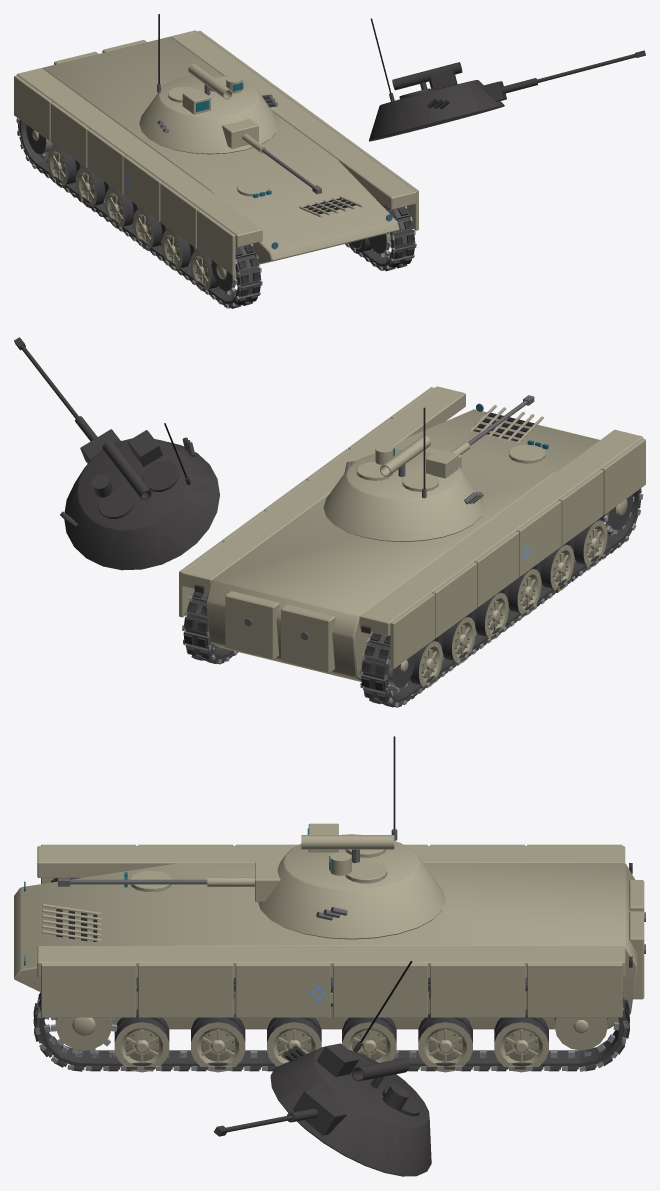
File: ifv__bmp_2.glb
3 views of the same model, one above another, from view 1: azimuth 30°, elevation 25°; view 2: azimuth 150°, elevation 25°; view 3: azimuth 270°, elevation 25° (orthographic). The views are drawn at different scales.
Visible parts, largest first — view 1: Hull_Mesh, Wreck, Turret_Mesh, Track_L_Mesh, Track_R_Mesh, Gun_Mesh, Wheel_L0_Mesh, Wheel_L1_Mesh, Wheel_L4_Mesh, Wheel_L3_Mesh, Wheel_L2_Mesh, Wheel_L5_Mesh (+2 smaller); view 2: Hull_Mesh, Wreck, Turret_Mesh, Track_L_Mesh, Track_R_Mesh, Wheel_L4_Mesh, Wheel_L1_Mesh, Wheel_L5_Mesh, Wheel_L2_Mesh, Wheel_L3_Mesh, Wheel_L0_Mesh, Sprocket_L_Mesh (+2 smaller); view 3: Hull_Mesh, Wreck, Turret_Mesh, Track_R_Mesh, Wheel_R5_Mesh, Wheel_R0_Mesh, Wheel_R1_Mesh, Wheel_R4_Mesh, Gun_Mesh, Wheel_R2_Mesh, Wheel_R3_Mesh, Sprocket_R_Mesh (+1 smaller).
Boxes of the visible parts, box(x1,y1,x2,y2) form: Hull_Mesh: box(14, 30, 418, 275); Wreck: box(17, 18, 645, 308); Turret_Mesh: box(139, 14, 278, 154); Track_L_Mesh: box(16, 118, 262, 308); Track_R_Mesh: box(345, 196, 416, 271); Gun_Mesh: box(222, 118, 321, 194); Wheel_L0_Mesh: box(47, 146, 83, 186); Wheel_L1_Mesh: box(76, 167, 112, 208); Wheel_L4_Mesh: box(161, 230, 198, 270); Wheel_L3_Mesh: box(133, 209, 169, 249); Wheel_L2_Mesh: box(105, 188, 141, 228); Wheel_L5_Mesh: box(190, 250, 217, 291); Hull_Mesh: box(179, 386, 645, 681); Wreck: box(14, 337, 642, 707); Turret_Mesh: box(323, 407, 484, 541); Track_L_Mesh: box(359, 488, 643, 707); Track_R_Mesh: box(182, 591, 237, 664); Wheel_L4_Mesh: box(532, 544, 574, 590); Wheel_L1_Mesh: box(433, 616, 475, 663); Wheel_L5_Mesh: box(565, 520, 607, 567); Wheel_L2_Mesh: box(466, 592, 508, 639); Wheel_L3_Mesh: box(499, 568, 541, 615); Wheel_L0_Mesh: box(409, 640, 442, 686); Sprocket_L_Mesh: box(598, 494, 634, 534); Hull_Mesh: box(14, 844, 645, 1029); Wreck: box(33, 878, 629, 1176); Turret_Mesh: box(258, 736, 445, 939); Track_R_Mesh: box(33, 978, 629, 1071); Wheel_R5_Mesh: box(114, 1009, 169, 1072); Wheel_R0_Mesh: box(494, 1009, 548, 1072); Wheel_R1_Mesh: box(418, 1013, 472, 1072); Wheel_R4_Mesh: box(191, 1014, 245, 1072); Gun_Mesh: box(58, 862, 280, 901); Wheel_R2_Mesh: box(342, 1017, 396, 1062); Wheel_R3_Mesh: box(267, 1017, 321, 1066); Sprocket_R_Mesh: box(50, 1017, 117, 1054).
Size of what is drawn, in the model's own units: 8.24 by 3.17 by 7.06.
